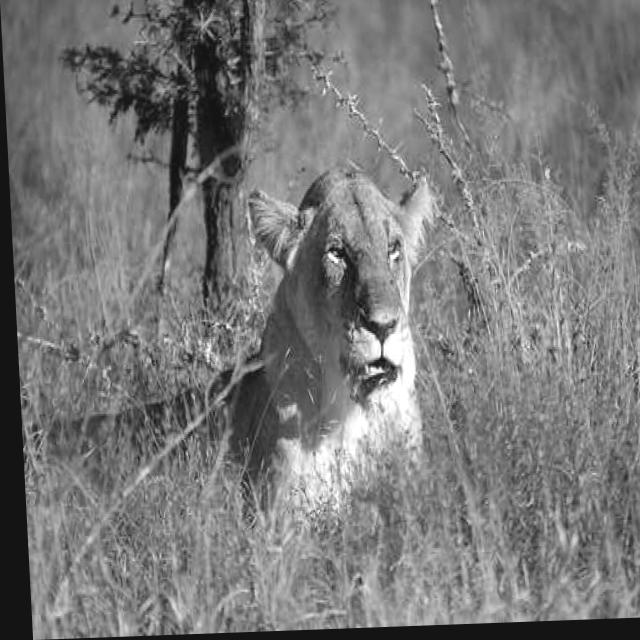Lion: (201, 145, 480, 555)
